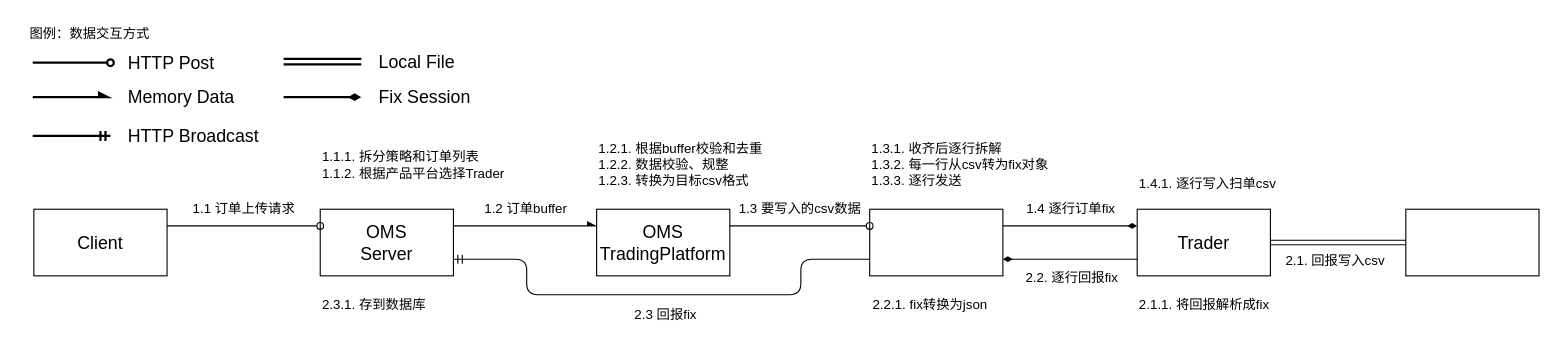
Some shapes in this 1558 by 347 pixel diagram are drawn without their labels. Each missing label, with the centre of its shape:
"Router" belongs at point 936,242.
"卡方客户端" belongs at point 1472,242.
